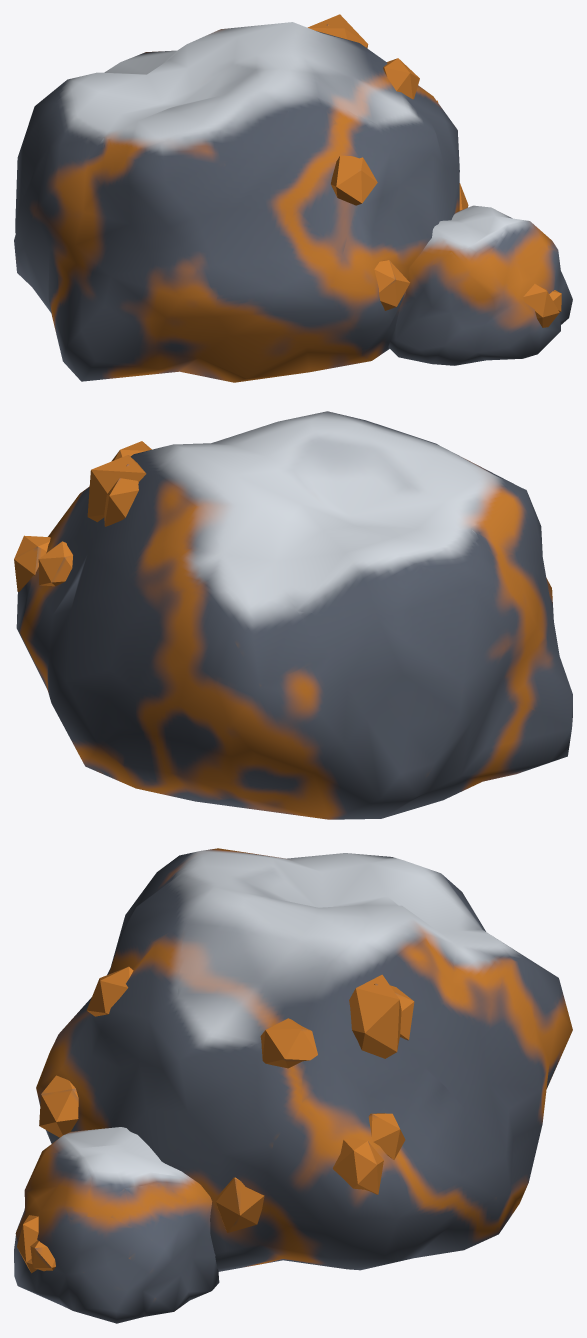
The model's file is season_rock_a_snow.glb.
3 views of the same model, one above another, from view 1: azimuth 30°, elevation 25°; view 2: azimuth 150°, elevation 25°; view 3: azimuth 270°, elevation 25° (orthographic). The views are drawn at different scales.
Visible parts, largest first — view 1: nug; view 2: nug; view 3: nug.
Part boxes in pixels (box(x1,y1,x2,y2)): nug: box(14, 14, 572, 382); nug: box(14, 411, 572, 819); nug: box(14, 848, 572, 1323).
Size of the model in its own units: 1.81 by 0.9875 by 1.65.
1 material, 1 textured.
